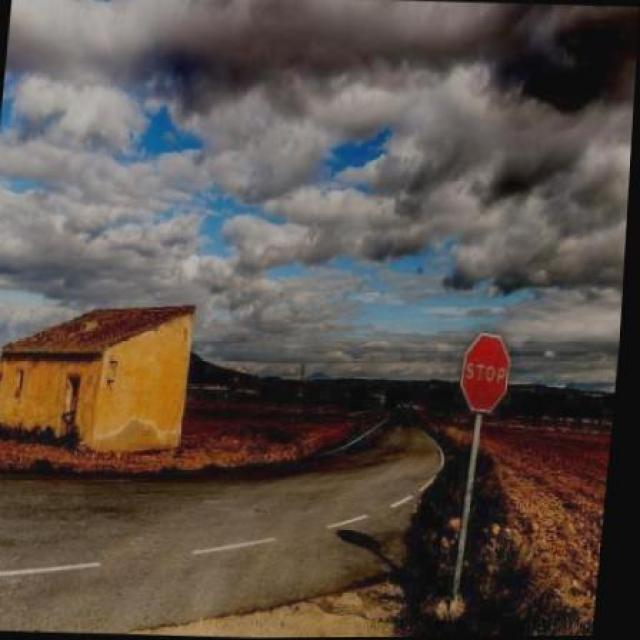Stop-Sign: (460, 333, 510, 412)
